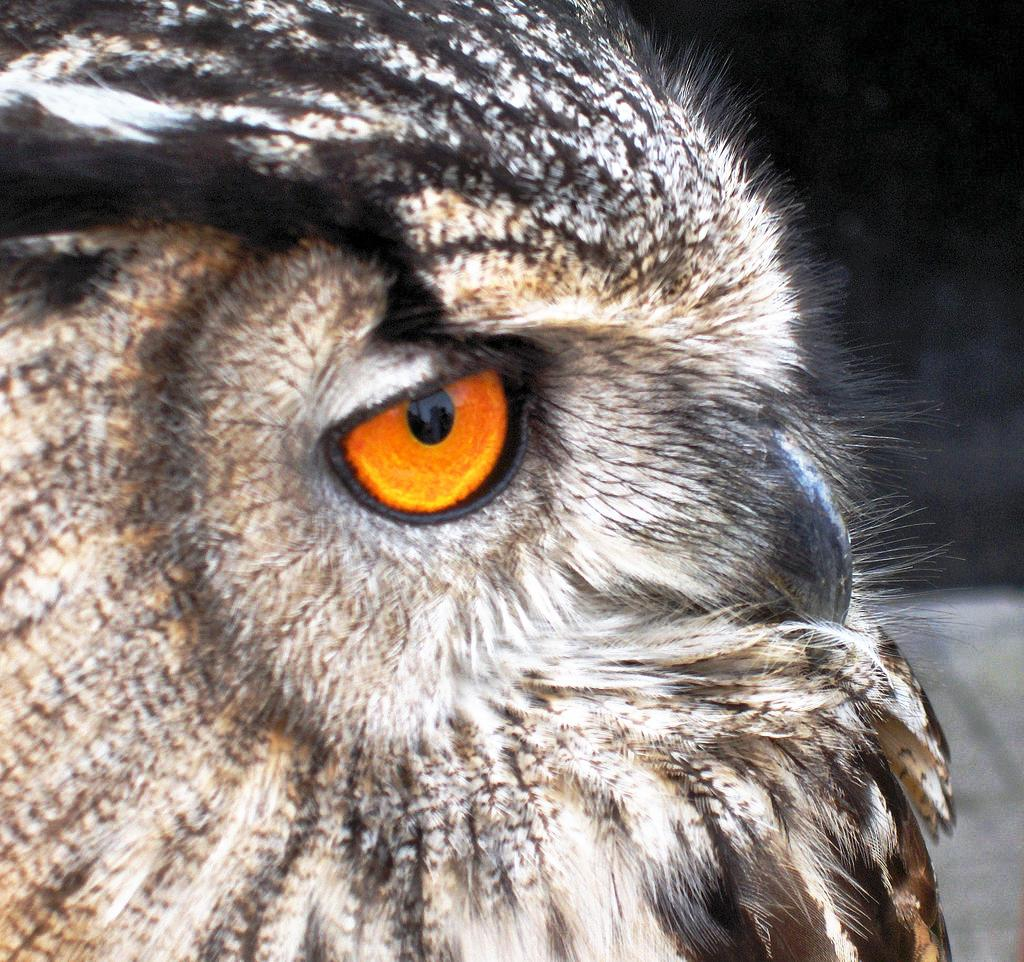Owl: (0, 0, 957, 961)
